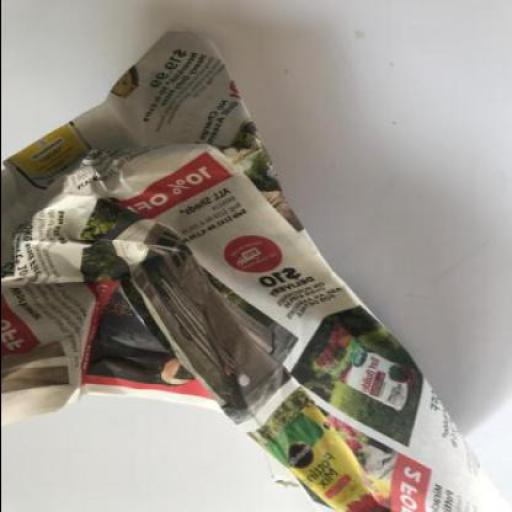paper: (0, 31, 511, 512)
